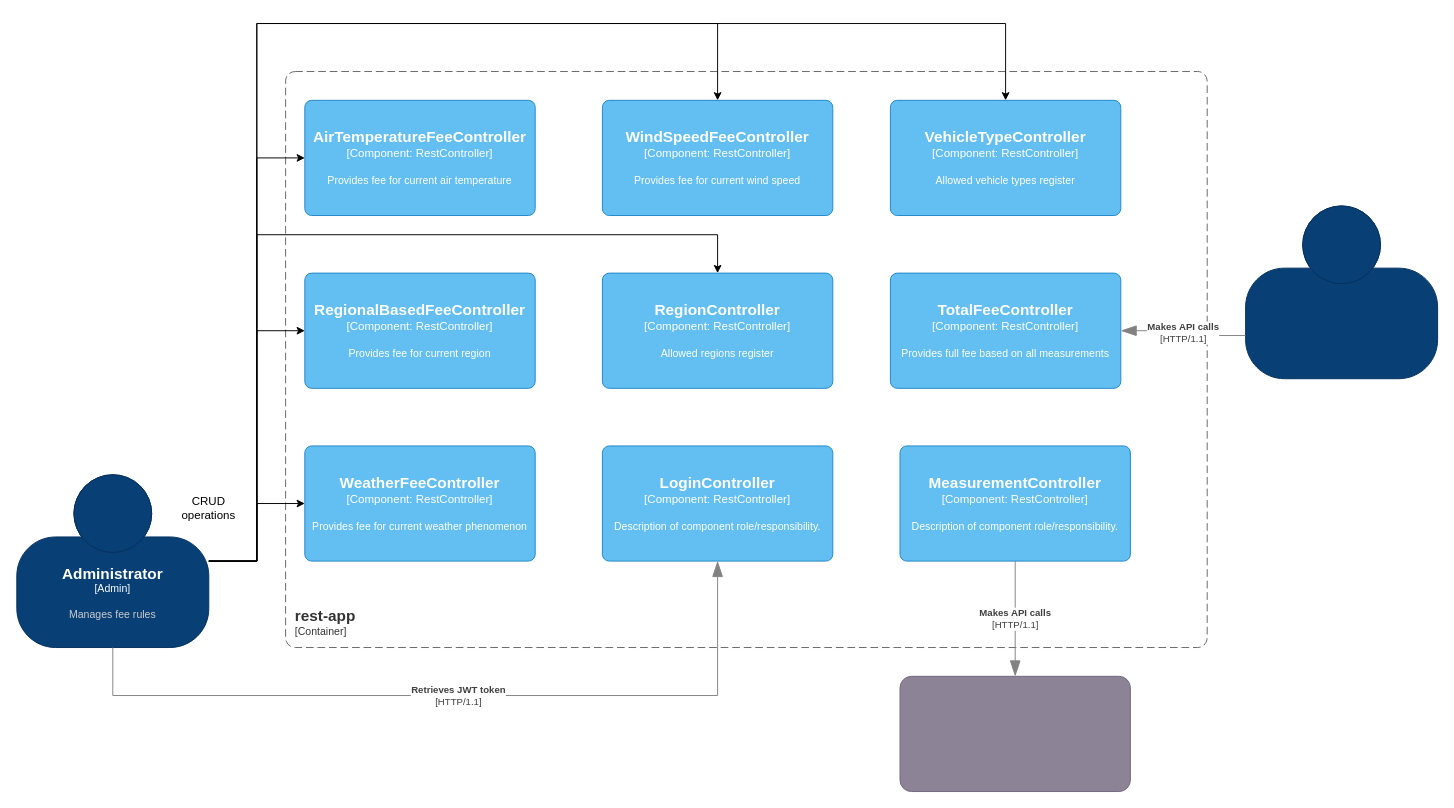
This 1454x808 diagram has some shape labels left out. Here are the shapes that lost their labels. From the top down, the centre of each, then its label:
point (1341, 292): Delivery system user [User] Wants to get total fee for delivery
point (1014, 733): Weather measurements [Software System] www.ilmateeninus.ee
